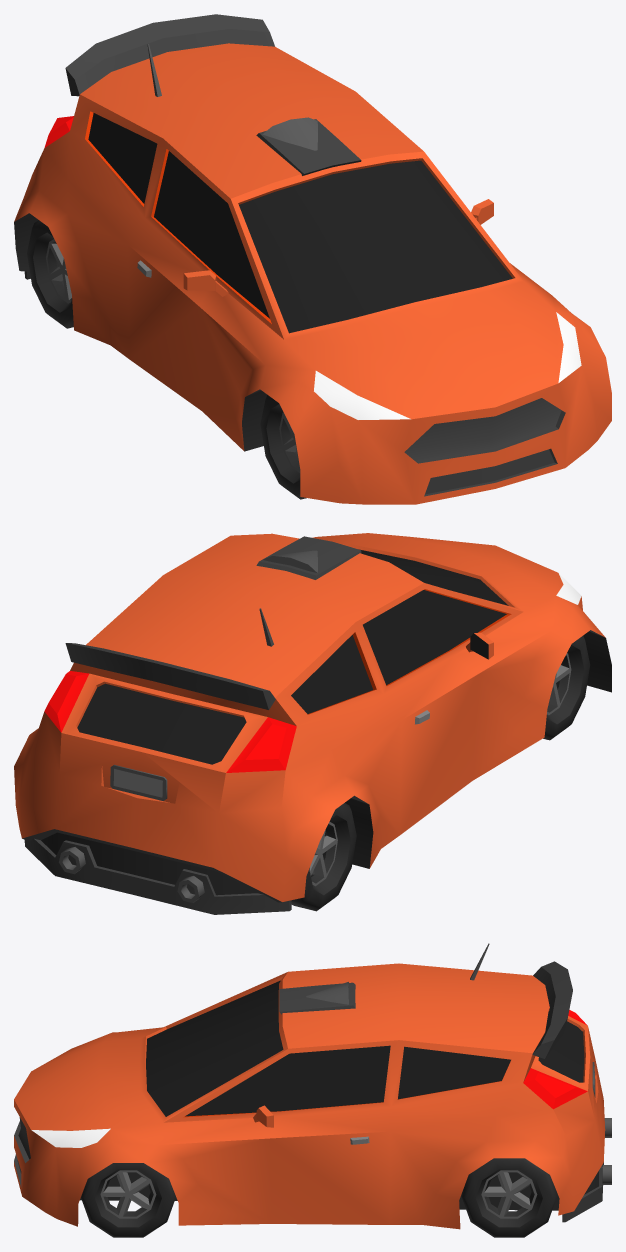
The model's file is rally.glb.
3 renders of one model, top to bottom at view 1: azimuth 30°, elevation 25°; view 2: azimuth 150°, elevation 25°; view 3: azimuth 270°, elevation 25°, orthographic. The views are drawn at different scales.
Visible parts, largest first — view 1: rally, wheels.041, wheels.040; view 2: rally, wheels.041, wheels.040; view 3: rally, wheels.018, wheels.019.
Part boxes in pixels (<box>): rally: <box>14,14,611,504</box>; wheels.041: <box>27,220,73,328</box>; wheels.040: <box>260,395,306,499</box>; rally: <box>14,533,611,914</box>; wheels.041: <box>291,803,356,911</box>; wheels.040: <box>543,636,590,740</box>; rally: <box>14,943,611,1229</box>; wheels.018: <box>461,1158,557,1237</box>; wheels.019: <box>81,1163,175,1237</box>.
Size of the model in its own units: 1.97 by 1.62 by 4.02.
4 materials, 4 textured.
